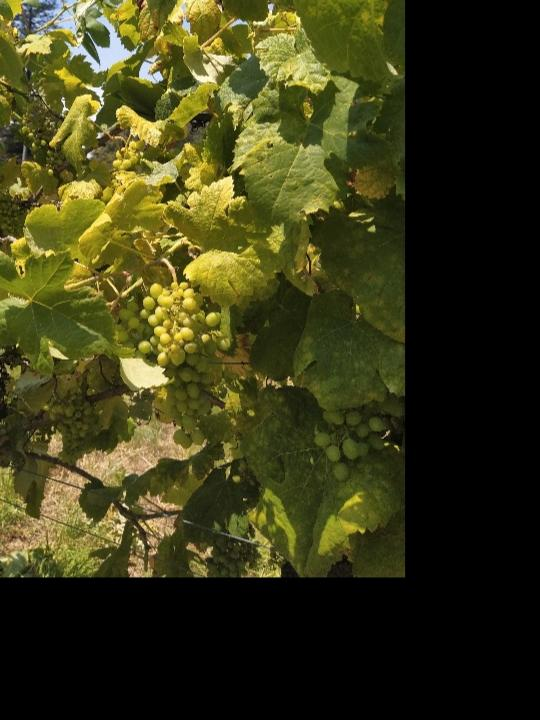grape: (115, 281, 233, 447)
